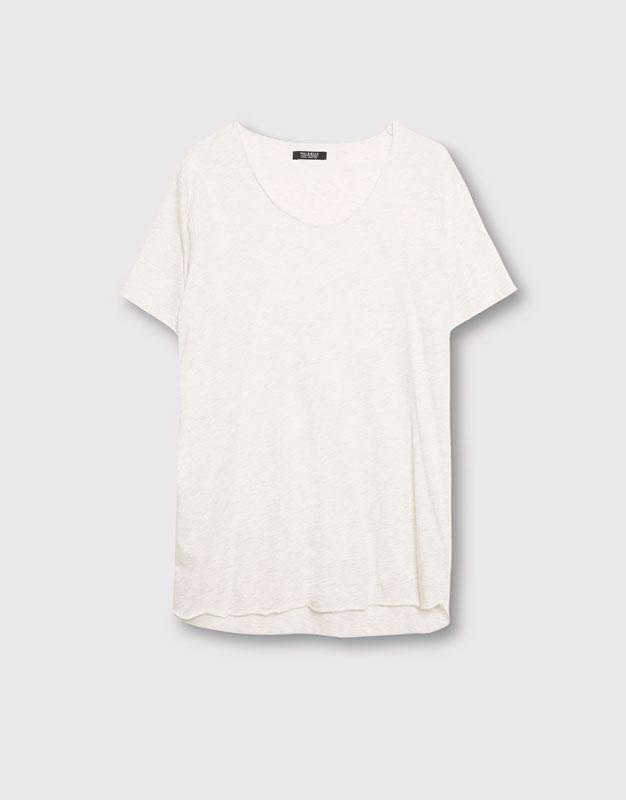teeshirt: (137, 117, 506, 666)
